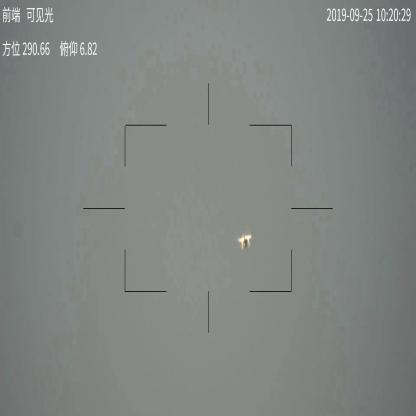uav: (235, 230, 253, 251)
